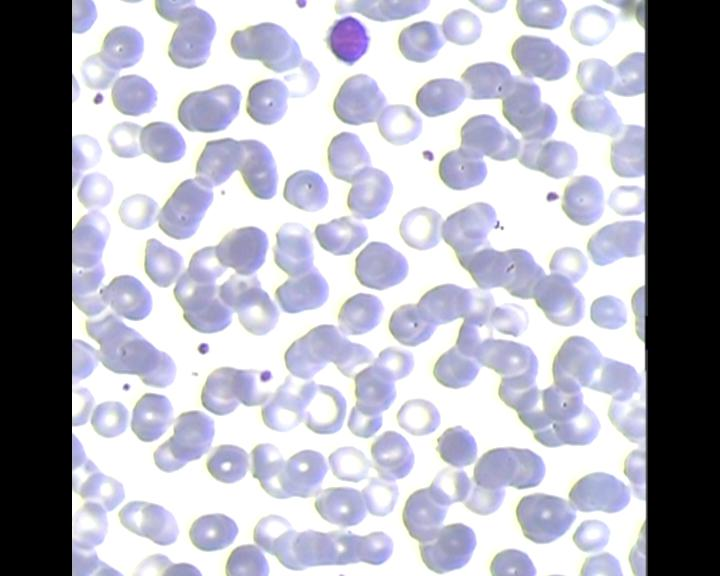lymp: (327, 13, 374, 67)
